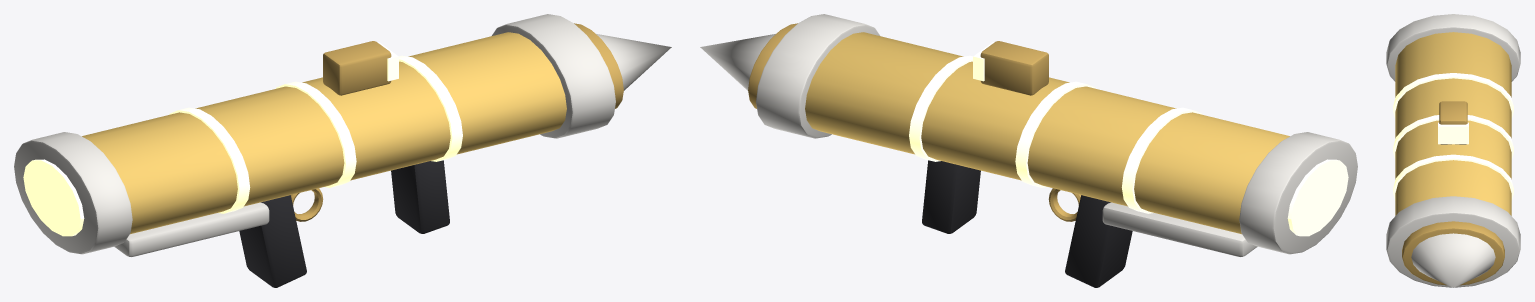
File: SGP_Launcher_Gilded.glb
3 renders of one model, left to right at view 1: azimuth 30°, elevation 25°; view 2: azimuth 150°, elevation 25°; view 3: azimuth 270°, elevation 25°, orthographic. The views are drawn at different scales.
Visible parts, largest first — view 1: SGP_Launcher_Gilded; view 2: SGP_Launcher_Gilded; view 3: SGP_Launcher_Gilded.
Part boxes in pixels (bbox=[...]): SGP_Launcher_Gilded: bbox=[14, 14, 671, 287]; SGP_Launcher_Gilded: bbox=[700, 14, 1357, 287]; SGP_Launcher_Gilded: bbox=[1386, 14, 1520, 287].
Size of the model in its own units: 0.699 by 0.2197 by 0.1664.
